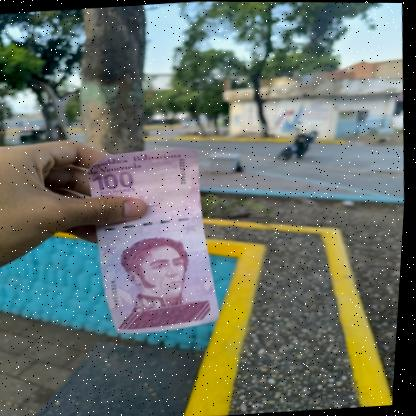vef_front: (75, 143, 233, 338)
